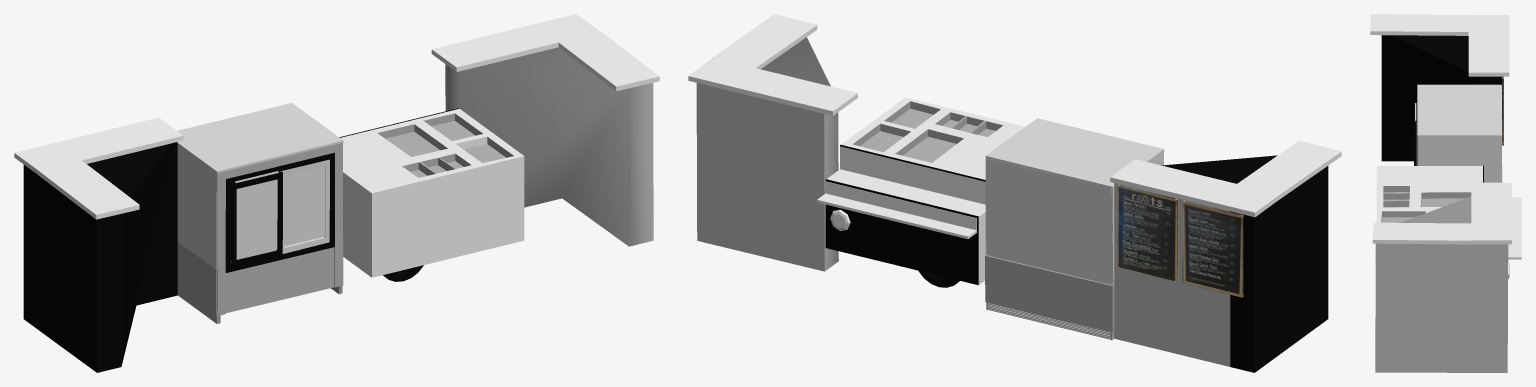
Rendered from Cafeteria Bar Oliver.fbx.
3 views of the same model, side by side, from view 1: azimuth 30°, elevation 25°; view 2: azimuth 150°, elevation 25°; view 3: azimuth 270°, elevation 25° (orthographic). The views are drawn at different scales.
Visible parts, largest first — view 1: RightWall1, RightWall, BikeDesk, FridgeTOPGlass, FridgeBottom, bench3, bench1, FridgeGlassSide, BackBorderSTeel, GlassDoor1, bench2, bench4 (+4 smaller); view 2: RightWall, RightWall1, BikeDesk, FridgeGlassFront, FridgeTOPGlass, FridgeBottom, pCube9, pCube8, bench3, bench1, bench2, bench4 (+3 smaller); view 3: RightWall1, RightWall, BikeDesk, FridgeTOPGlass, FridgeGlassSide2, bench1, bench3, bench2, bench4, bIKEsHELF1, FridgeBackdoor1, pCube8.
Boxes of the visible parts, <box> form: RightWall1: <box>445,47,653,246</box>; RightWall: <box>23,142,177,372</box>; BikeDesk: <box>340,108,524,277</box>; FridgeTOPGlass: <box>177,103,343,173</box>; FridgeBottom: <box>177,239,343,315</box>; bench3: <box>431,14,600,71</box>; bench1: <box>14,117,183,174</box>; FridgeGlassSide: <box>177,145,217,269</box>; BackBorderSTeel: <box>217,142,342,315</box>; GlassDoor1: <box>235,171,278,259</box>; bench2: <box>38,160,139,219</box>; bench4: <box>558,31,659,91</box>; RightWall: <box>1114,155,1328,372</box>; RightWall1: <box>696,37,838,271</box>; BikeDesk: <box>825,97,1024,285</box>; FridgeGlassFront: <box>986,158,1112,285</box>; FridgeTOPGlass: <box>985,118,1164,188</box>; FridgeBottom: <box>985,255,1114,332</box>; pCube9: <box>1182,200,1243,297</box>; pCube8: <box>1117,184,1178,281</box>; bench3: <box>688,58,857,115</box>; bench1: <box>1110,159,1279,217</box>; bench2: <box>1237,140,1341,199</box>; bench4: <box>712,14,817,69</box>; RightWall1: <box>1375,196,1508,372</box>; RightWall: <box>1381,35,1501,161</box>; BikeDesk: <box>1376,166,1482,222</box>; FridgeTOPGlass: <box>1417,84,1501,136</box>; FridgeGlassSide2: <box>1418,136,1501,182</box>; bench1: <box>1468,15,1509,76</box>; bench3: <box>1471,182,1511,244</box>; bench2: <box>1370,14,1469,35</box>; bench4: <box>1372,222,1471,244</box>; bIKEsHELF1: <box>1508,197,1521,259</box>; FridgeBackdoor1: <box>1414,102,1416,165</box>; pCube8: <box>1502,76,1503,145</box>.
Bounding box in the file's own units: 4.46 × 1.25 × 1.26.
